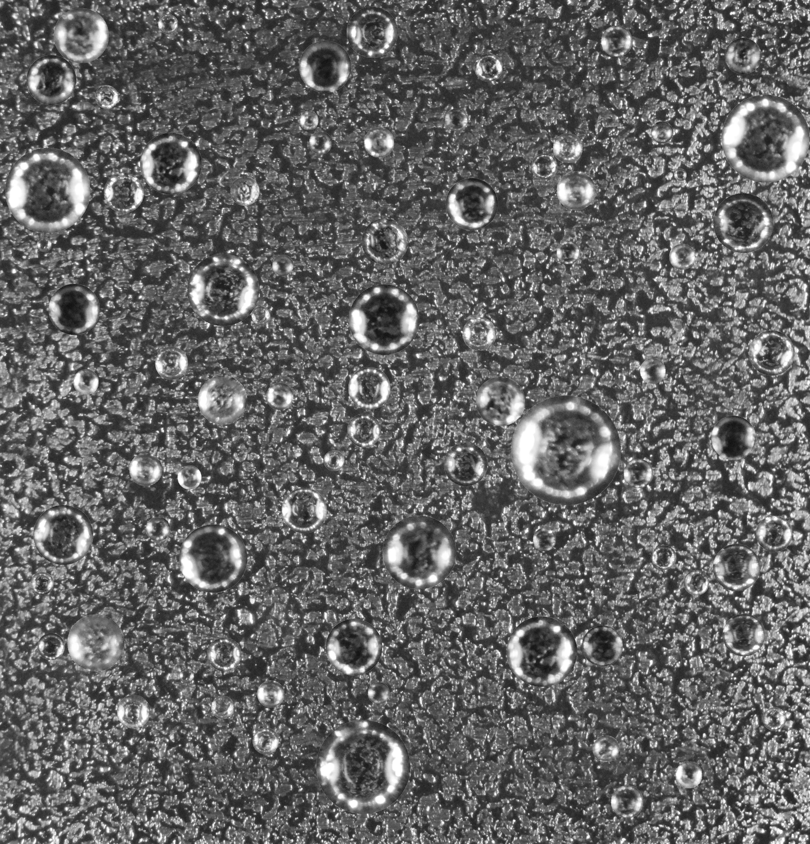Bubble: (511, 395, 620, 505), (316, 720, 410, 813), (721, 94, 809, 182), (5, 147, 90, 232), (382, 515, 456, 589), (187, 254, 259, 325), (506, 616, 577, 686), (348, 284, 419, 354), (179, 524, 247, 592), (140, 132, 201, 194), (33, 505, 93, 564), (713, 193, 773, 252), (67, 614, 124, 671), (325, 619, 382, 675), (53, 8, 108, 62), (299, 40, 351, 92), (445, 178, 497, 230), (48, 283, 99, 334), (346, 6, 397, 57), (26, 55, 76, 104), (198, 375, 247, 424), (476, 376, 525, 425), (713, 544, 760, 591), (361, 218, 408, 264), (281, 487, 326, 533), (749, 330, 794, 375), (711, 415, 755, 460), (444, 442, 487, 486), (722, 614, 765, 656), (348, 367, 390, 409), (582, 625, 622, 666), (103, 172, 143, 212), (556, 171, 595, 209), (725, 37, 761, 74), (756, 515, 792, 551), (207, 637, 241, 671), (347, 413, 380, 447), (462, 317, 496, 350), (116, 695, 150, 728), (155, 346, 187, 379), (129, 453, 162, 485), (611, 785, 643, 817), (601, 25, 632, 56), (623, 458, 653, 488), (364, 127, 394, 157), (230, 176, 259, 205), (553, 133, 582, 162), (474, 53, 502, 81), (266, 382, 293, 409), (257, 680, 284, 707), (592, 735, 619, 762), (37, 633, 64, 660), (675, 761, 702, 788), (252, 727, 278, 754), (531, 153, 557, 179), (669, 243, 695, 269), (683, 570, 709, 595), (145, 516, 170, 541), (73, 369, 98, 394), (640, 358, 665, 383), (651, 545, 676, 569), (556, 240, 580, 264), (177, 465, 201, 489), (762, 707, 786, 730), (30, 572, 53, 595), (533, 528, 556, 551), (95, 85, 118, 108), (211, 696, 234, 719), (445, 108, 467, 131), (309, 131, 331, 154), (367, 682, 389, 704), (651, 121, 673, 143), (272, 254, 293, 275), (323, 450, 344, 470), (251, 306, 270, 325), (158, 14, 177, 33), (299, 110, 318, 129), (179, 668, 194, 683), (36, 237, 51, 251), (674, 168, 686, 181)
